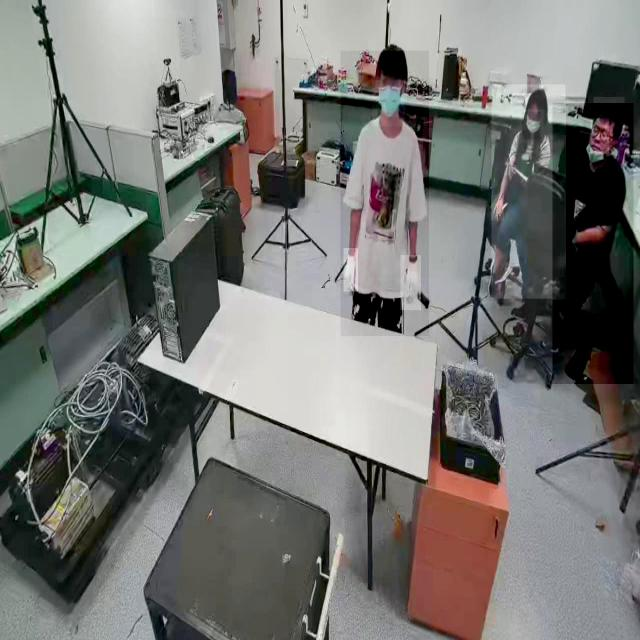face_mask: (372, 80, 404, 126), (522, 112, 540, 140)
face_nomask: (591, 118, 609, 154)
hand_glove: (401, 255, 422, 311), (344, 248, 358, 292)
hand_noglove: (491, 195, 505, 221)
head_nohelmet: (376, 42, 408, 74), (593, 97, 625, 116), (525, 87, 547, 109)
person: (340, 51, 430, 337), (552, 103, 634, 385), (492, 84, 566, 300)
